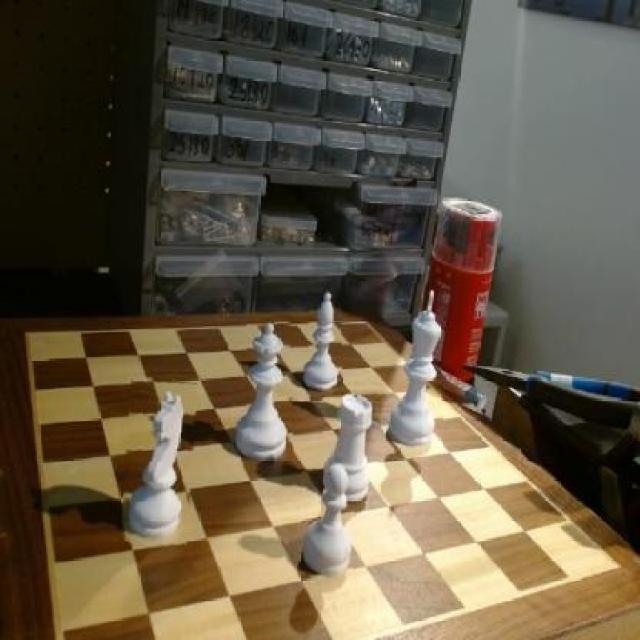black-rook: (296, 292, 342, 398)
white-bishop: (386, 286, 443, 452)
white-king: (123, 376, 195, 546)
white-knight: (303, 462, 355, 578)
white-pawn: (229, 317, 293, 465)
white-queen: (325, 388, 380, 506)
